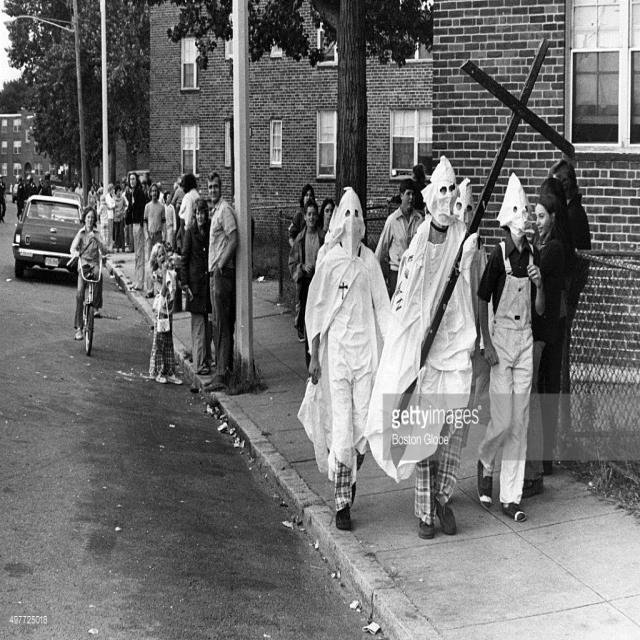body: (362, 153, 479, 541), (302, 184, 400, 532), (389, 178, 495, 482), (474, 168, 547, 524), (509, 193, 566, 499), (538, 175, 574, 466), (202, 169, 239, 395), (0, 158, 128, 219), (179, 195, 219, 377), (287, 198, 327, 379), (549, 157, 592, 314), (148, 239, 194, 383), (373, 177, 425, 304), (69, 205, 108, 342), (150, 239, 178, 384), (137, 174, 214, 217), (143, 182, 168, 300), (126, 170, 148, 292), (230, 190, 256, 274), (287, 182, 316, 250), (388, 163, 428, 210), (178, 172, 202, 247), (113, 184, 129, 252), (317, 197, 336, 249), (162, 190, 177, 248), (104, 182, 116, 254), (288, 210, 308, 248), (40, 170, 52, 197)
